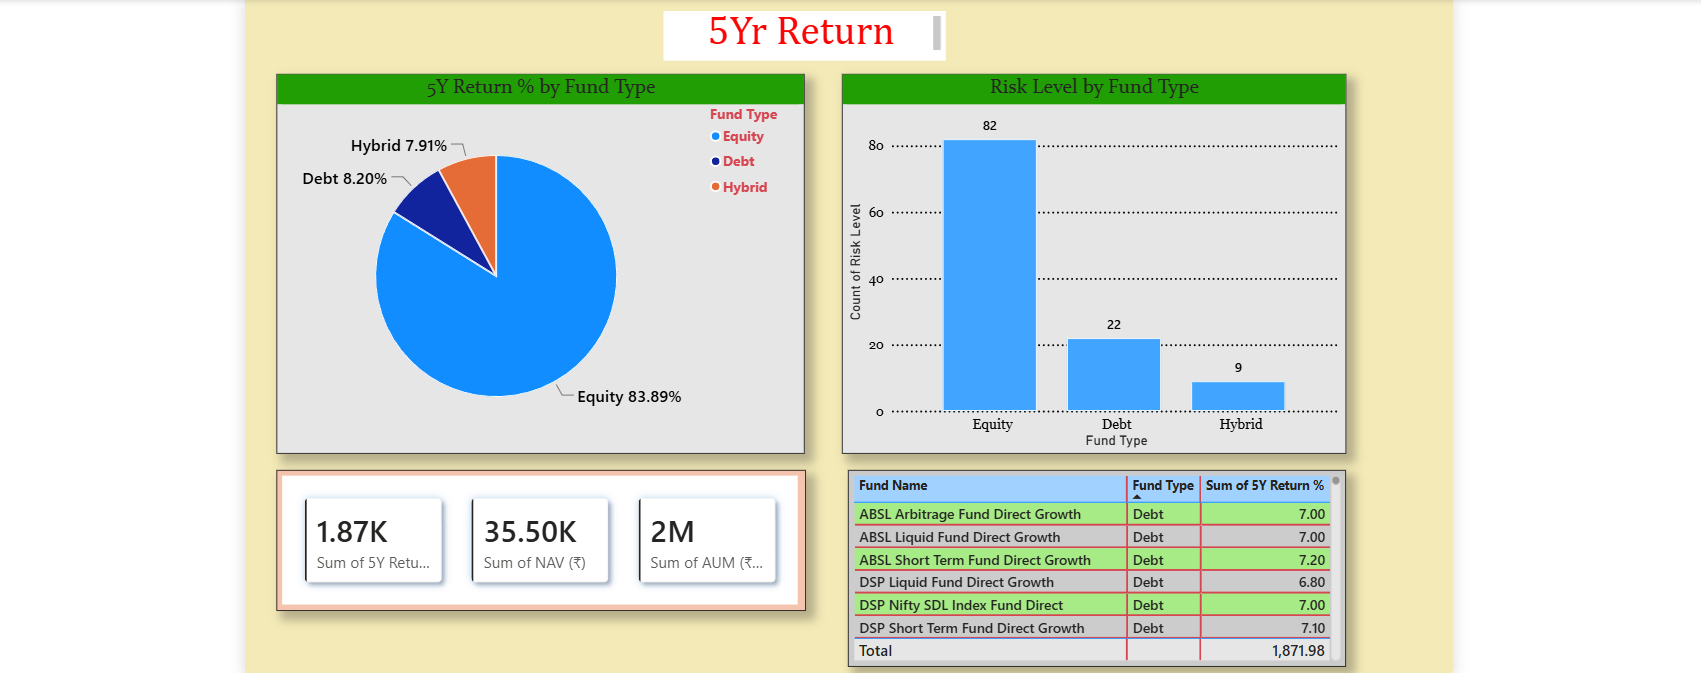

What the dashboard file says about the page in this screenshot:
{"tool":"powerbi","page":{"name":"5Yr Return","canvas":[1280,720],"ordinal":4},"visuals":[{"type":"tableEx","fields":{"Values":["MutualFund_Master.Fund Name","MutualFund_Master.Fund Type","Sum(MutualFund_Master.5Y Return %)"]},"box":[639.4,499.5,528.1,208.4],"z":0},{"type":"cardVisual","fields":{"Data":["Sum(MutualFund_Master.5Y Return %)","Sum(MutualFund_Master.NAV (₹))","Sum(MutualFund_Master.AUM (₹ Cr))"]},"box":[33.4,499.5,561.5,149.5],"z":1000},{"type":"pieChart","title":"5Y Return % by Fund Type","fields":{"Category":["MutualFund_Master.Fund Type"],"Y":["Sum(MutualFund_Master.5Y Return %)"]},"box":[33.4,79.5,559.9,402.4],"z":2000},{"type":"clusteredColumnChart","title":"Risk  Level by Fund Type","fields":{"Category":["MutualFund_Master.Fund Type"],"Y":["CountNonNull(MutualFund_Master.Risk Level)"]},"box":[633.1,79.5,534.4,402.4],"z":3000},{"type":"textbox","box":[443.8,12.7,299,52.5],"z":3001}]}

Visuals, with their boxes on the page's 1280x720 design canvas (x1, y1, x2, y2). These are canvas units, not pixel positions in the 1701x673 screenshot, which may show the page scaled, cropped or inside an application window:
tableEx - MutualFund_Master.Fund Name x MutualFund_Master.Fund Type: bbox(639, 500, 1168, 708)
cardVisual - Sum(MutualFund_Master.5Y Return %) x Sum(MutualFund_Master.NAV (₹)): bbox(33, 500, 595, 649)
"5Y Return % by Fund Type" pieChart: bbox(33, 80, 593, 482)
"Risk  Level by Fund Type" clusteredColumnChart: bbox(633, 80, 1168, 482)
textbox: bbox(444, 13, 743, 65)
